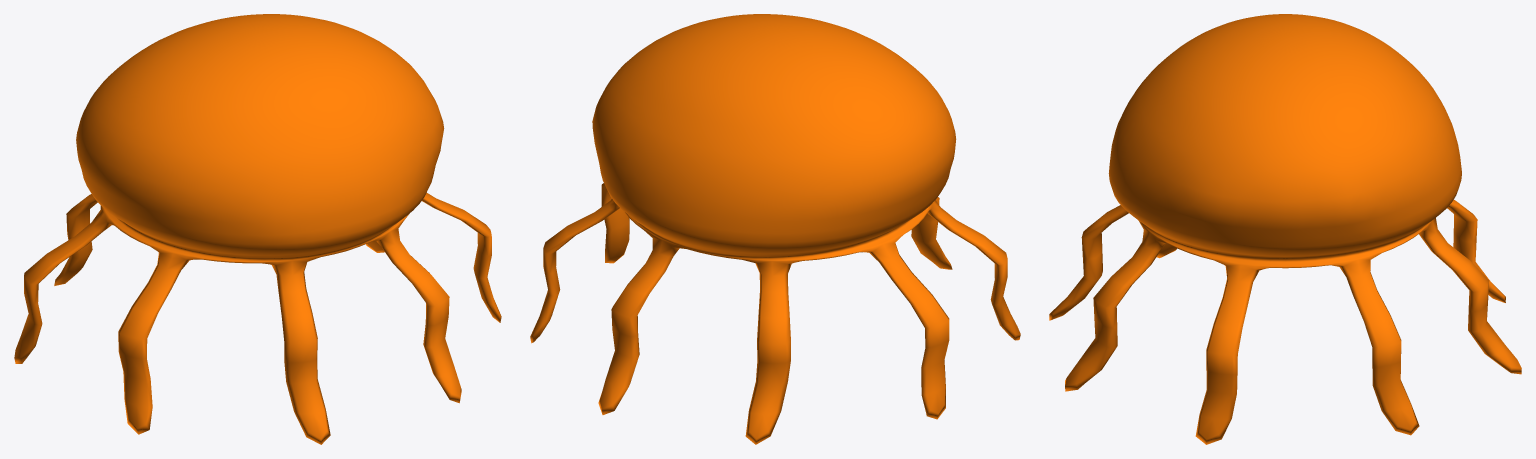
The model's file is kurage5.FBX.
3 views of the same model, side by side, from view 1: azimuth 30°, elevation 25°; view 2: azimuth 150°, elevation 25°; view 3: azimuth 270°, elevation 25° (orthographic).
Parts seen in each view (by area): view 1: Sphere001; view 2: Sphere001; view 3: Sphere001.
Part boxes in pixels (x1,y1,x2,y2): Sphere001: (14, 14, 501, 444); Sphere001: (530, 14, 1020, 444); Sphere001: (1049, 14, 1521, 444).
Size of the model in its own units: 244 by 246 by 177.
1 material, 1 textured.
